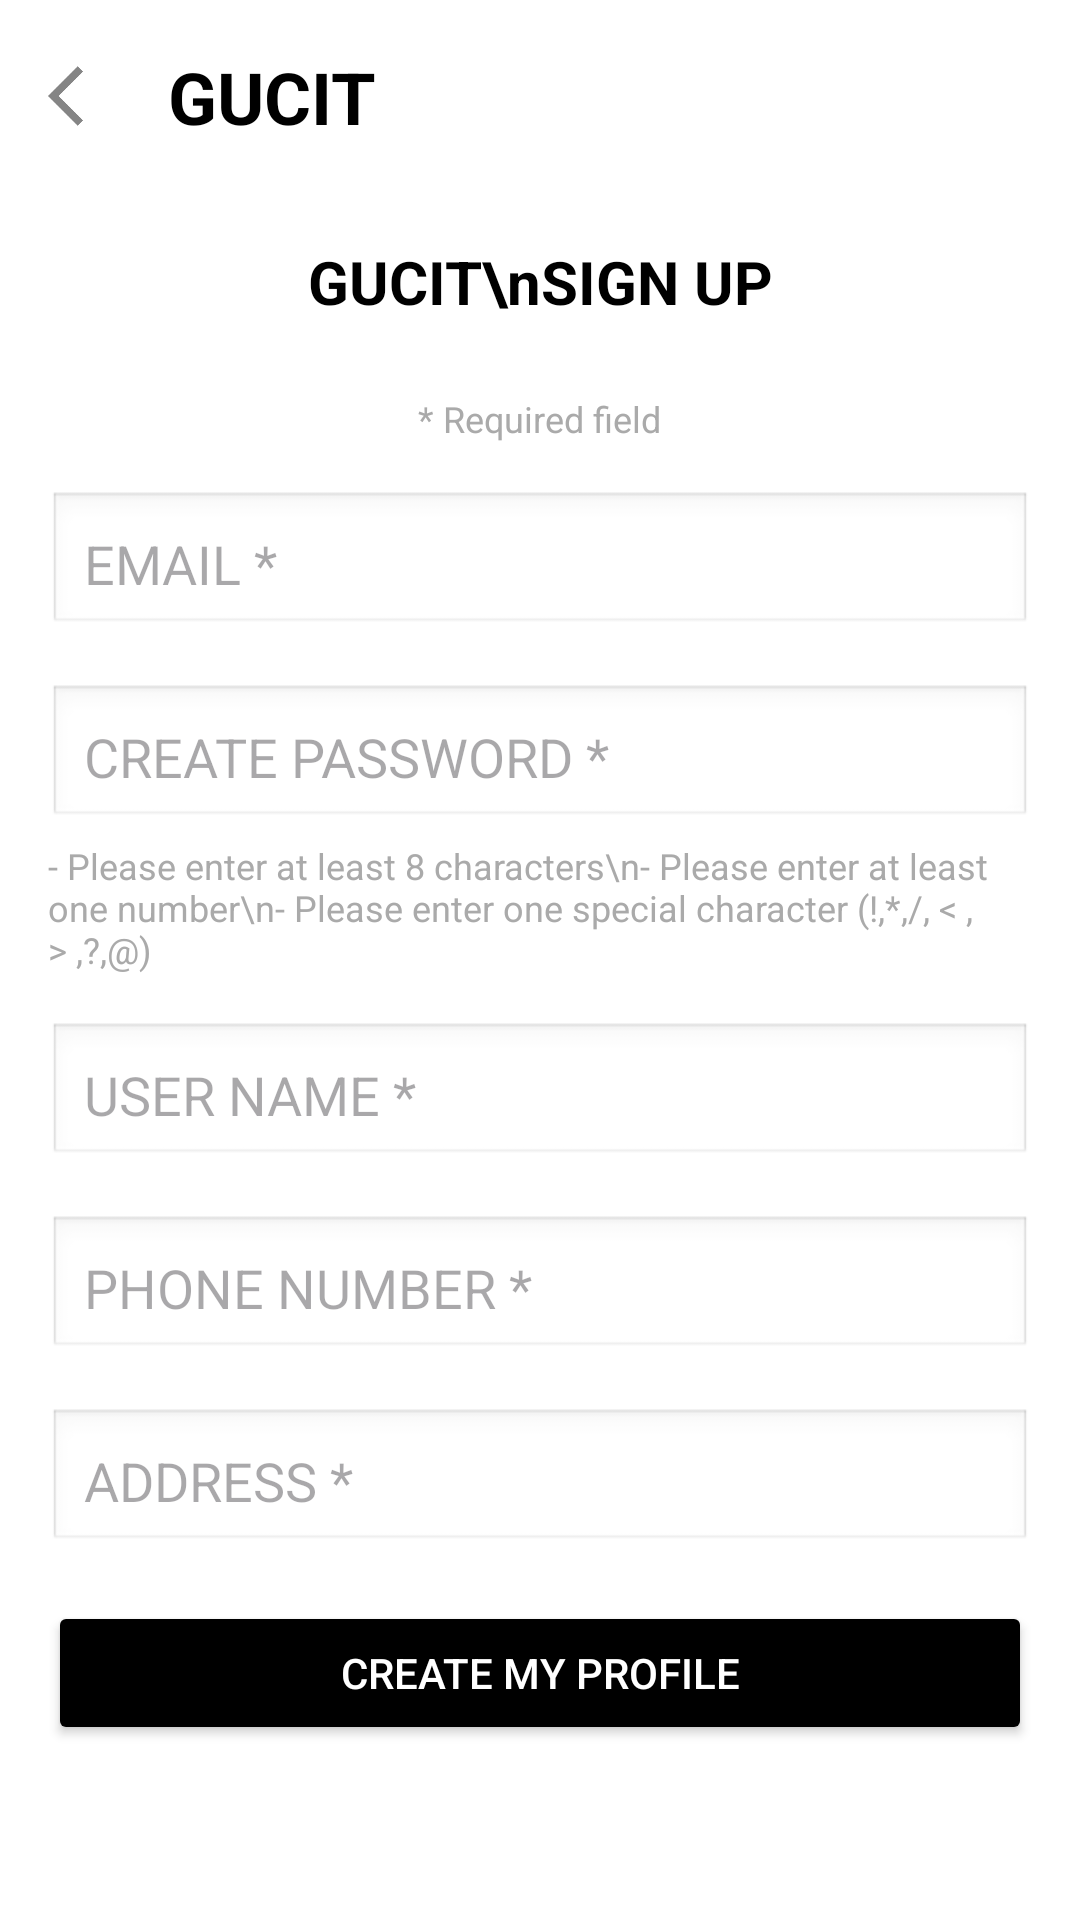

Point at icon controls on the screen. Image size 1080 × 1920, points as (x=x, y=y).
Back: (x=65, y=96)
